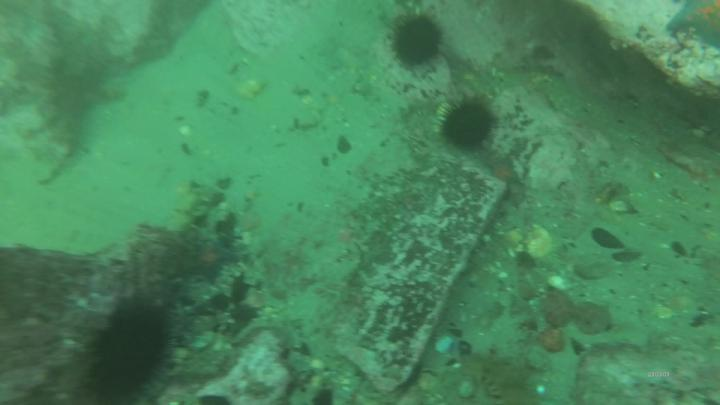echinus: (92, 308, 169, 405), (393, 17, 443, 69), (444, 104, 492, 149)
holothurian: (461, 356, 540, 405)
starfish: (667, 2, 720, 48), (194, 241, 237, 280), (484, 158, 520, 184)
